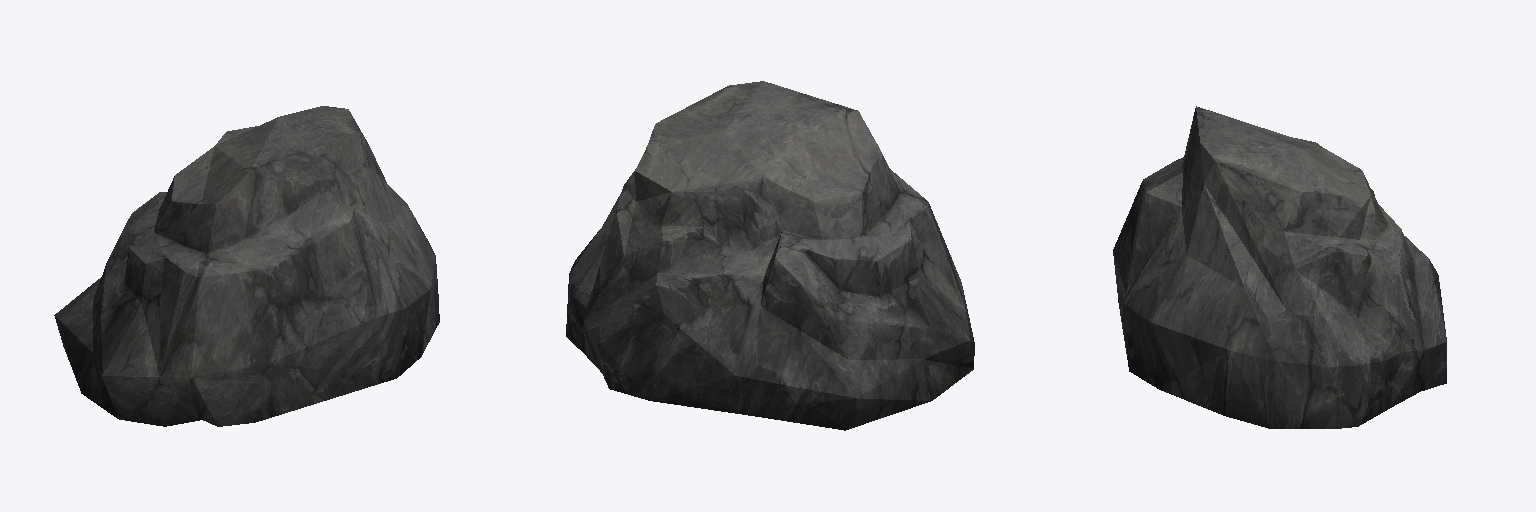
The picture shows the model from 3 angles: view 1: azimuth 30°, elevation 25°; view 2: azimuth 150°, elevation 25°; view 3: azimuth 270°, elevation 25°; orthographic projection.
Visible parts, largest first — view 1: world/expansion07/doodads/8xp_warrock_a01.m2_Geoset_000; view 2: world/expansion07/doodads/8xp_warrock_a01.m2_Geoset_000; view 3: world/expansion07/doodads/8xp_warrock_a01.m2_Geoset_000.
Part boxes in pixels (x1,y1,x2,y2): world/expansion07/doodads/8xp_warrock_a01.m2_Geoset_000: (54,106,439,426); world/expansion07/doodads/8xp_warrock_a01.m2_Geoset_000: (566,81,974,430); world/expansion07/doodads/8xp_warrock_a01.m2_Geoset_000: (1113,106,1446,428).
Size of the model in its own units: 2.67 by 1.94 by 2.17.
Materials: 1 (1 with a texture image).